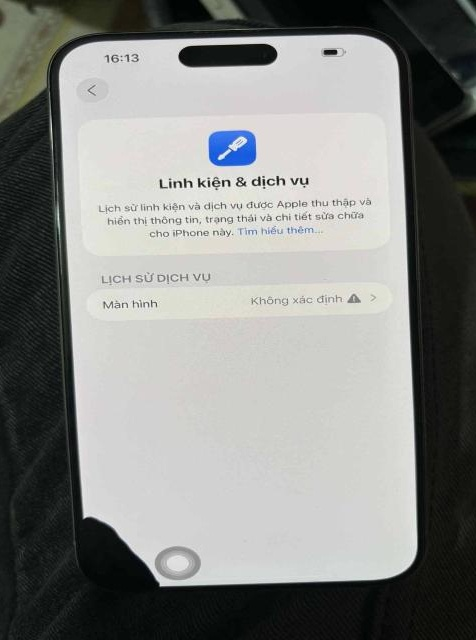screen_defect: (75, 517, 162, 591)
